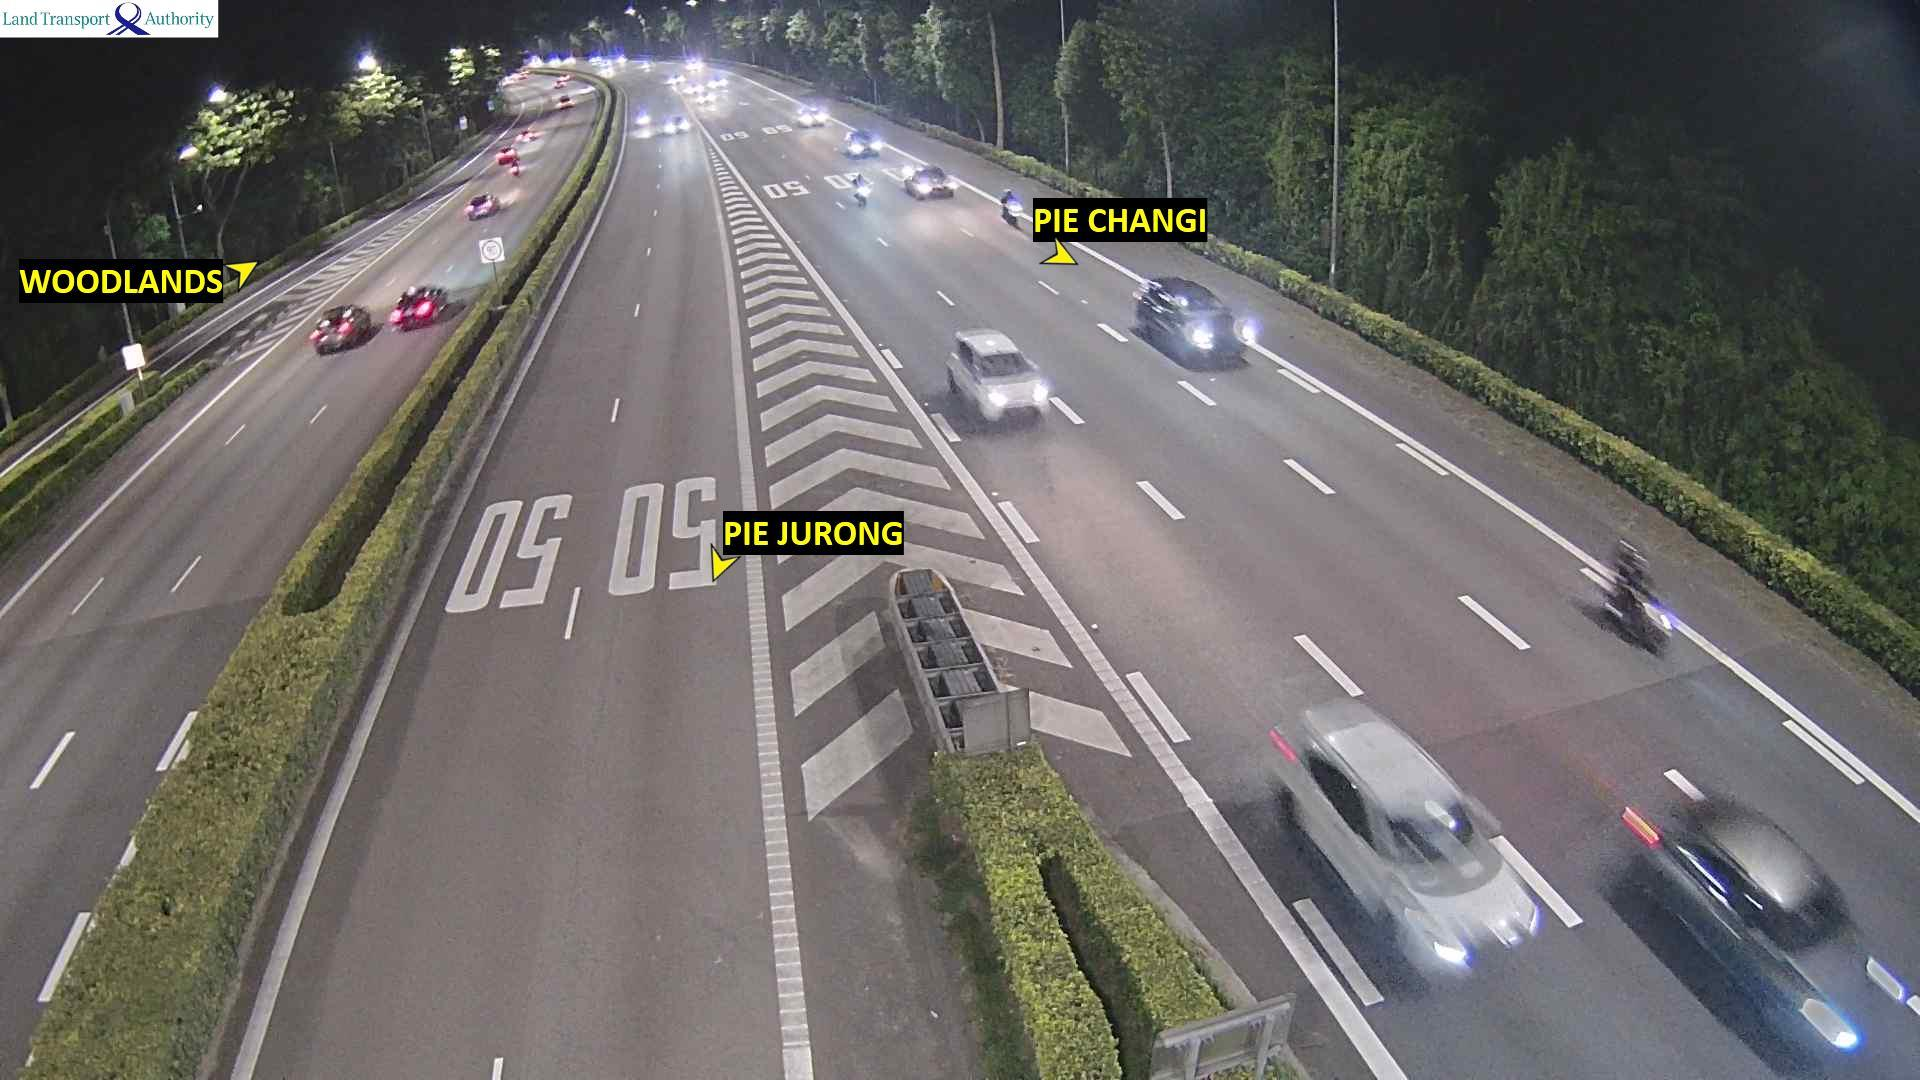incoming: (1261, 690, 1550, 987), (1753, 890, 1920, 1057), (1163, 291, 1259, 371), (968, 351, 1054, 424), (1637, 598, 1687, 648), (913, 175, 966, 203), (797, 107, 836, 130), (846, 139, 893, 156), (666, 116, 693, 138), (1006, 204, 1030, 224), (857, 188, 872, 203)
